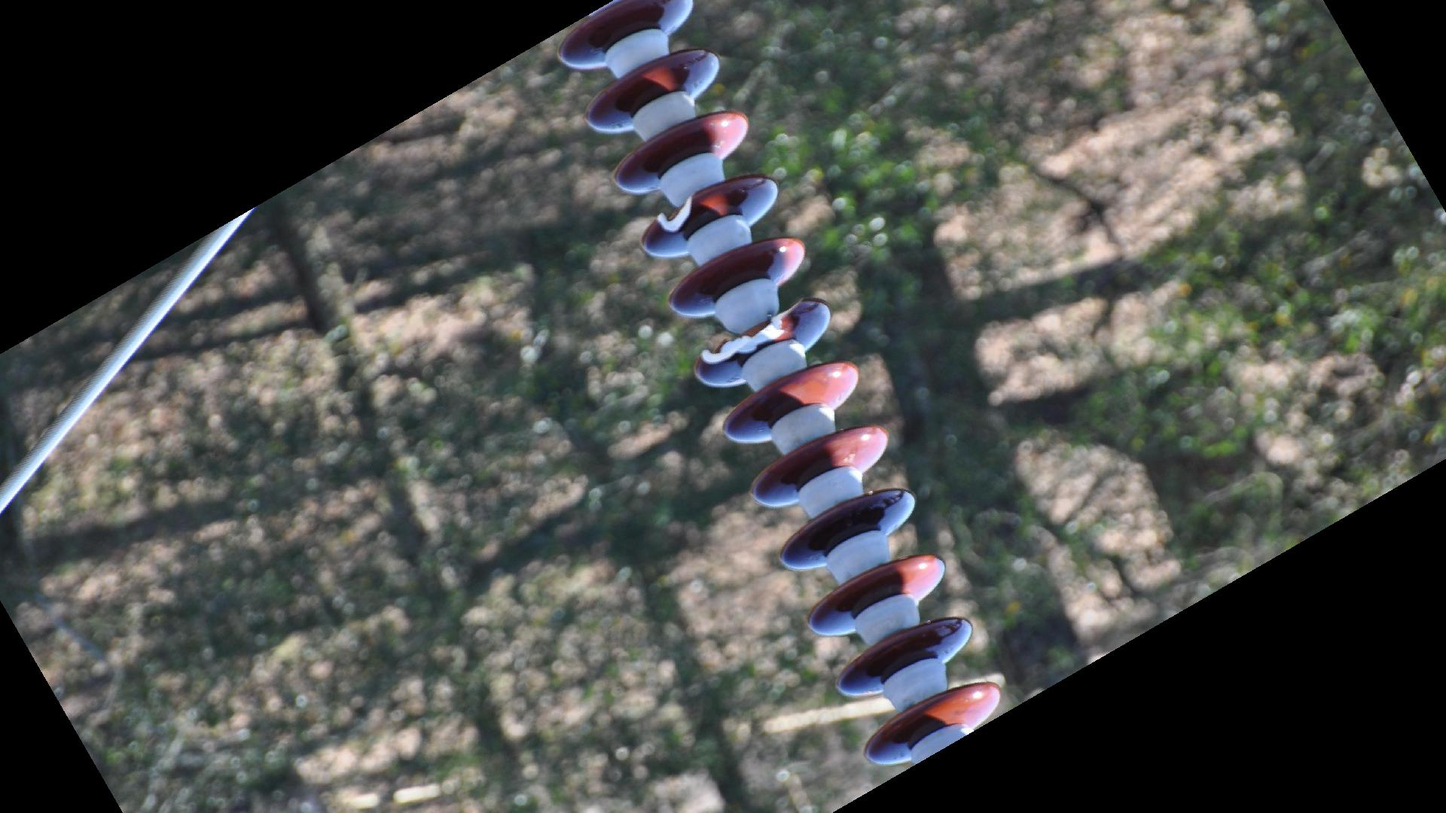insulator: (548, 1, 1008, 771)
insulator_breakage: (697, 295, 807, 370), (654, 190, 701, 237)
